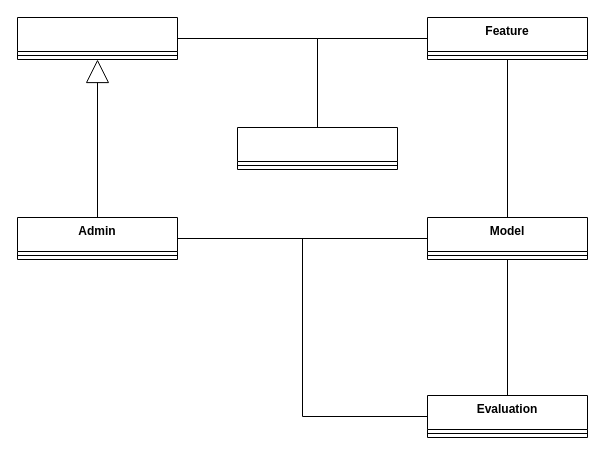
Some shapes in this 605 by 455 pixel diagram are drawn without their labels. Here are the shapes that lost their labels. From the top down, the centre of each, then its label:
[97,38]: User
[317,148]: Data
